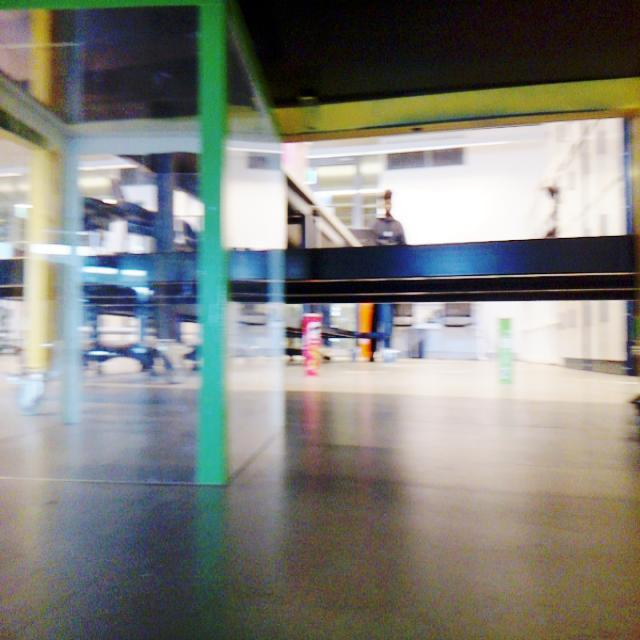greenpringles: (491, 314, 522, 386)
redpringles: (298, 310, 329, 377)
